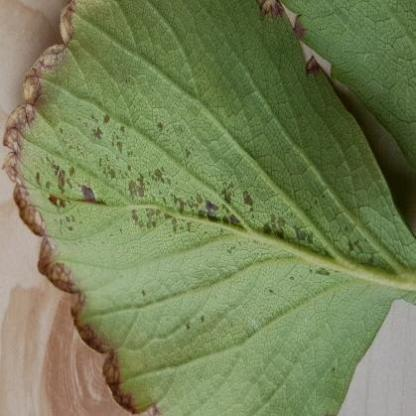Strawberry_Angular_LeafSpot: (0, 0, 402, 415)
